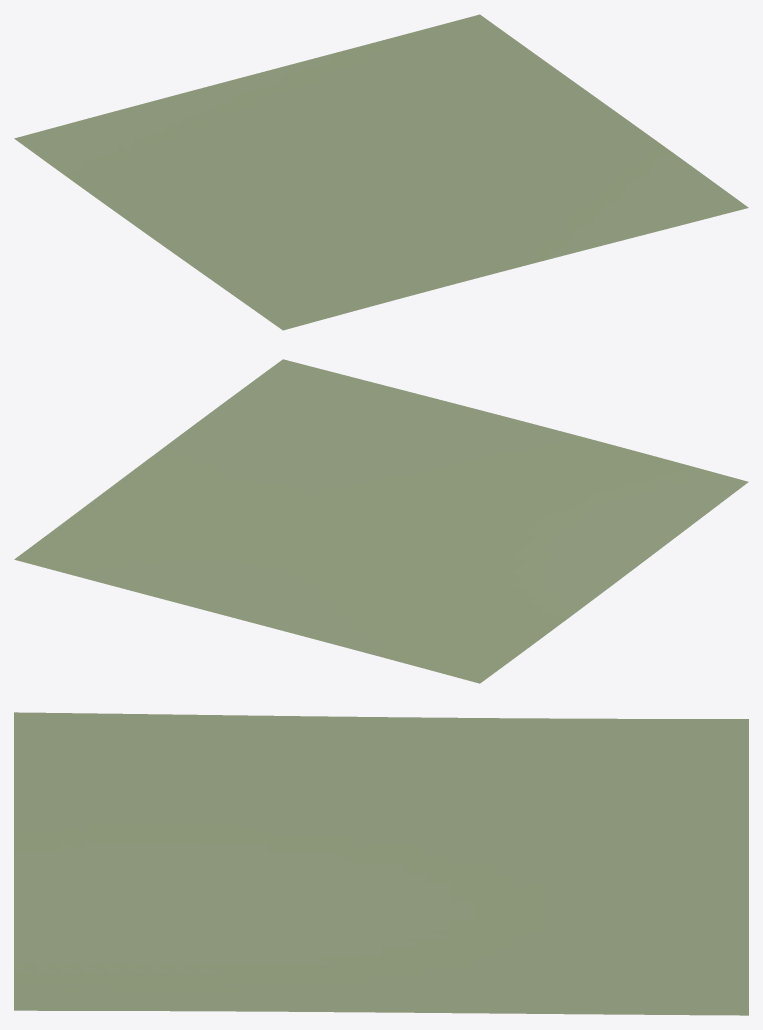
Rendered from desert-26-28.glb.
3 views of the same model, one above another, from view 1: azimuth 30°, elevation 25°; view 2: azimuth 150°, elevation 25°; view 3: azimuth 270°, elevation 25° (orthographic). The views are drawn at different scales.
Visible parts, largest first — view 1: desert-26-28; view 2: desert-26-28; view 3: desert-26-28.
Boxes of the visible parts, x1=… form: desert-26-28: x1=14, y1=14, x2=748, y2=330; desert-26-28: x1=14, y1=359, x2=748, y2=683; desert-26-28: x1=14, y1=712, x2=748, y2=1015.
Size of the model in its own units: 512 by 14.56 by 512.
